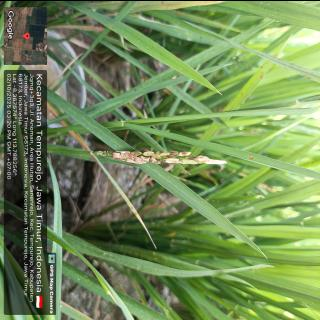Busuk-Bulir: (182, 155, 210, 163), (124, 151, 139, 158), (112, 151, 122, 159), (178, 151, 191, 155), (168, 150, 178, 155), (141, 148, 148, 152), (123, 154, 126, 157)
